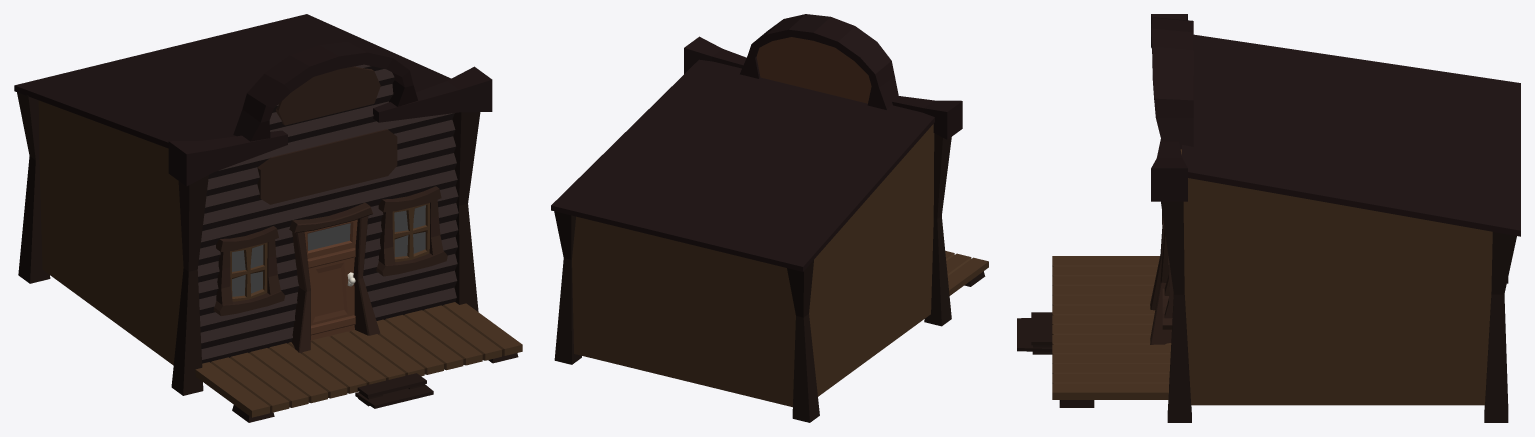
File: Building11.fbx
3 views of the same model, side by side, from view 1: azimuth 30°, elevation 25°; view 2: azimuth 150°, elevation 25°; view 3: azimuth 270°, elevation 25° (orthographic). The views are drawn at different scales.
Parts seen in each view (by area): view 1: Cube.057; view 2: Cube.057; view 3: Cube.057.
Part boxes in pixels (x1=…): Cube.057: x1=14, y1=14, x2=522, y2=422; Cube.057: x1=551, y1=14, x2=988, y2=422; Cube.057: x1=1017, y1=14, x2=1520, y2=422.
Bounding box in the file's own units: 564 × 545 × 779.
